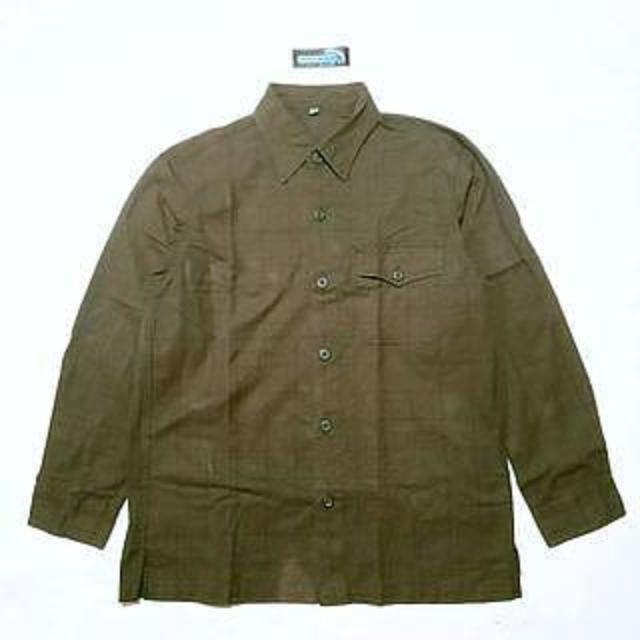SHIRT: (0, 71, 640, 618)
